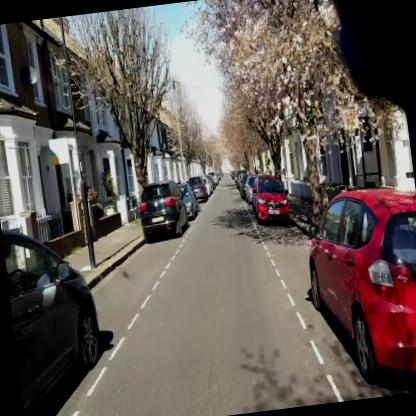car: (300, 181, 415, 398), (1, 218, 110, 415), (137, 178, 191, 243), (251, 171, 292, 228), (178, 180, 198, 222), (186, 174, 209, 204), (244, 172, 258, 204)
